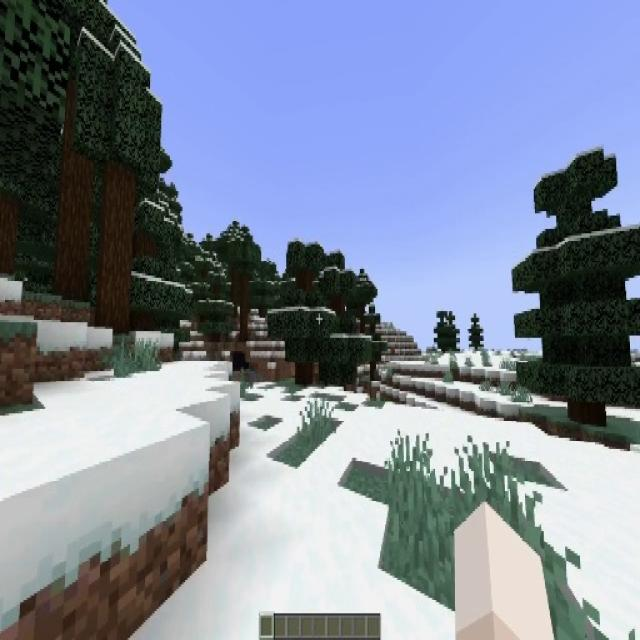spruce: (516, 139, 640, 438), (74, 23, 161, 332), (272, 242, 329, 384), (226, 226, 260, 342), (358, 306, 386, 378), (434, 310, 460, 354), (468, 314, 484, 350)
spruce_log: (96, 175, 133, 331), (62, 161, 92, 300), (568, 395, 606, 427), (0, 193, 15, 270), (240, 264, 248, 341), (135, 230, 157, 256), (133, 308, 154, 331), (296, 362, 312, 385), (232, 266, 239, 306)
